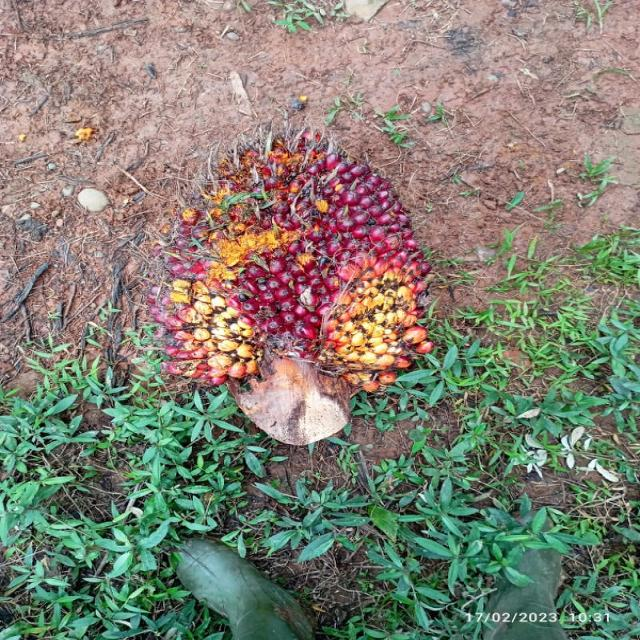fraksi 3: (138, 103, 504, 438)
